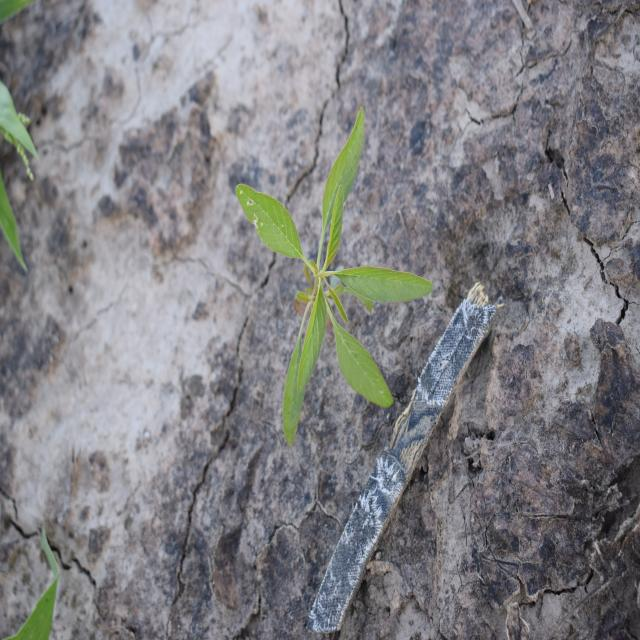Waterhemp: (234, 104, 435, 448)
